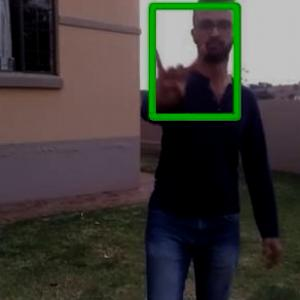takeoff-hand: (144, 34, 210, 120)
